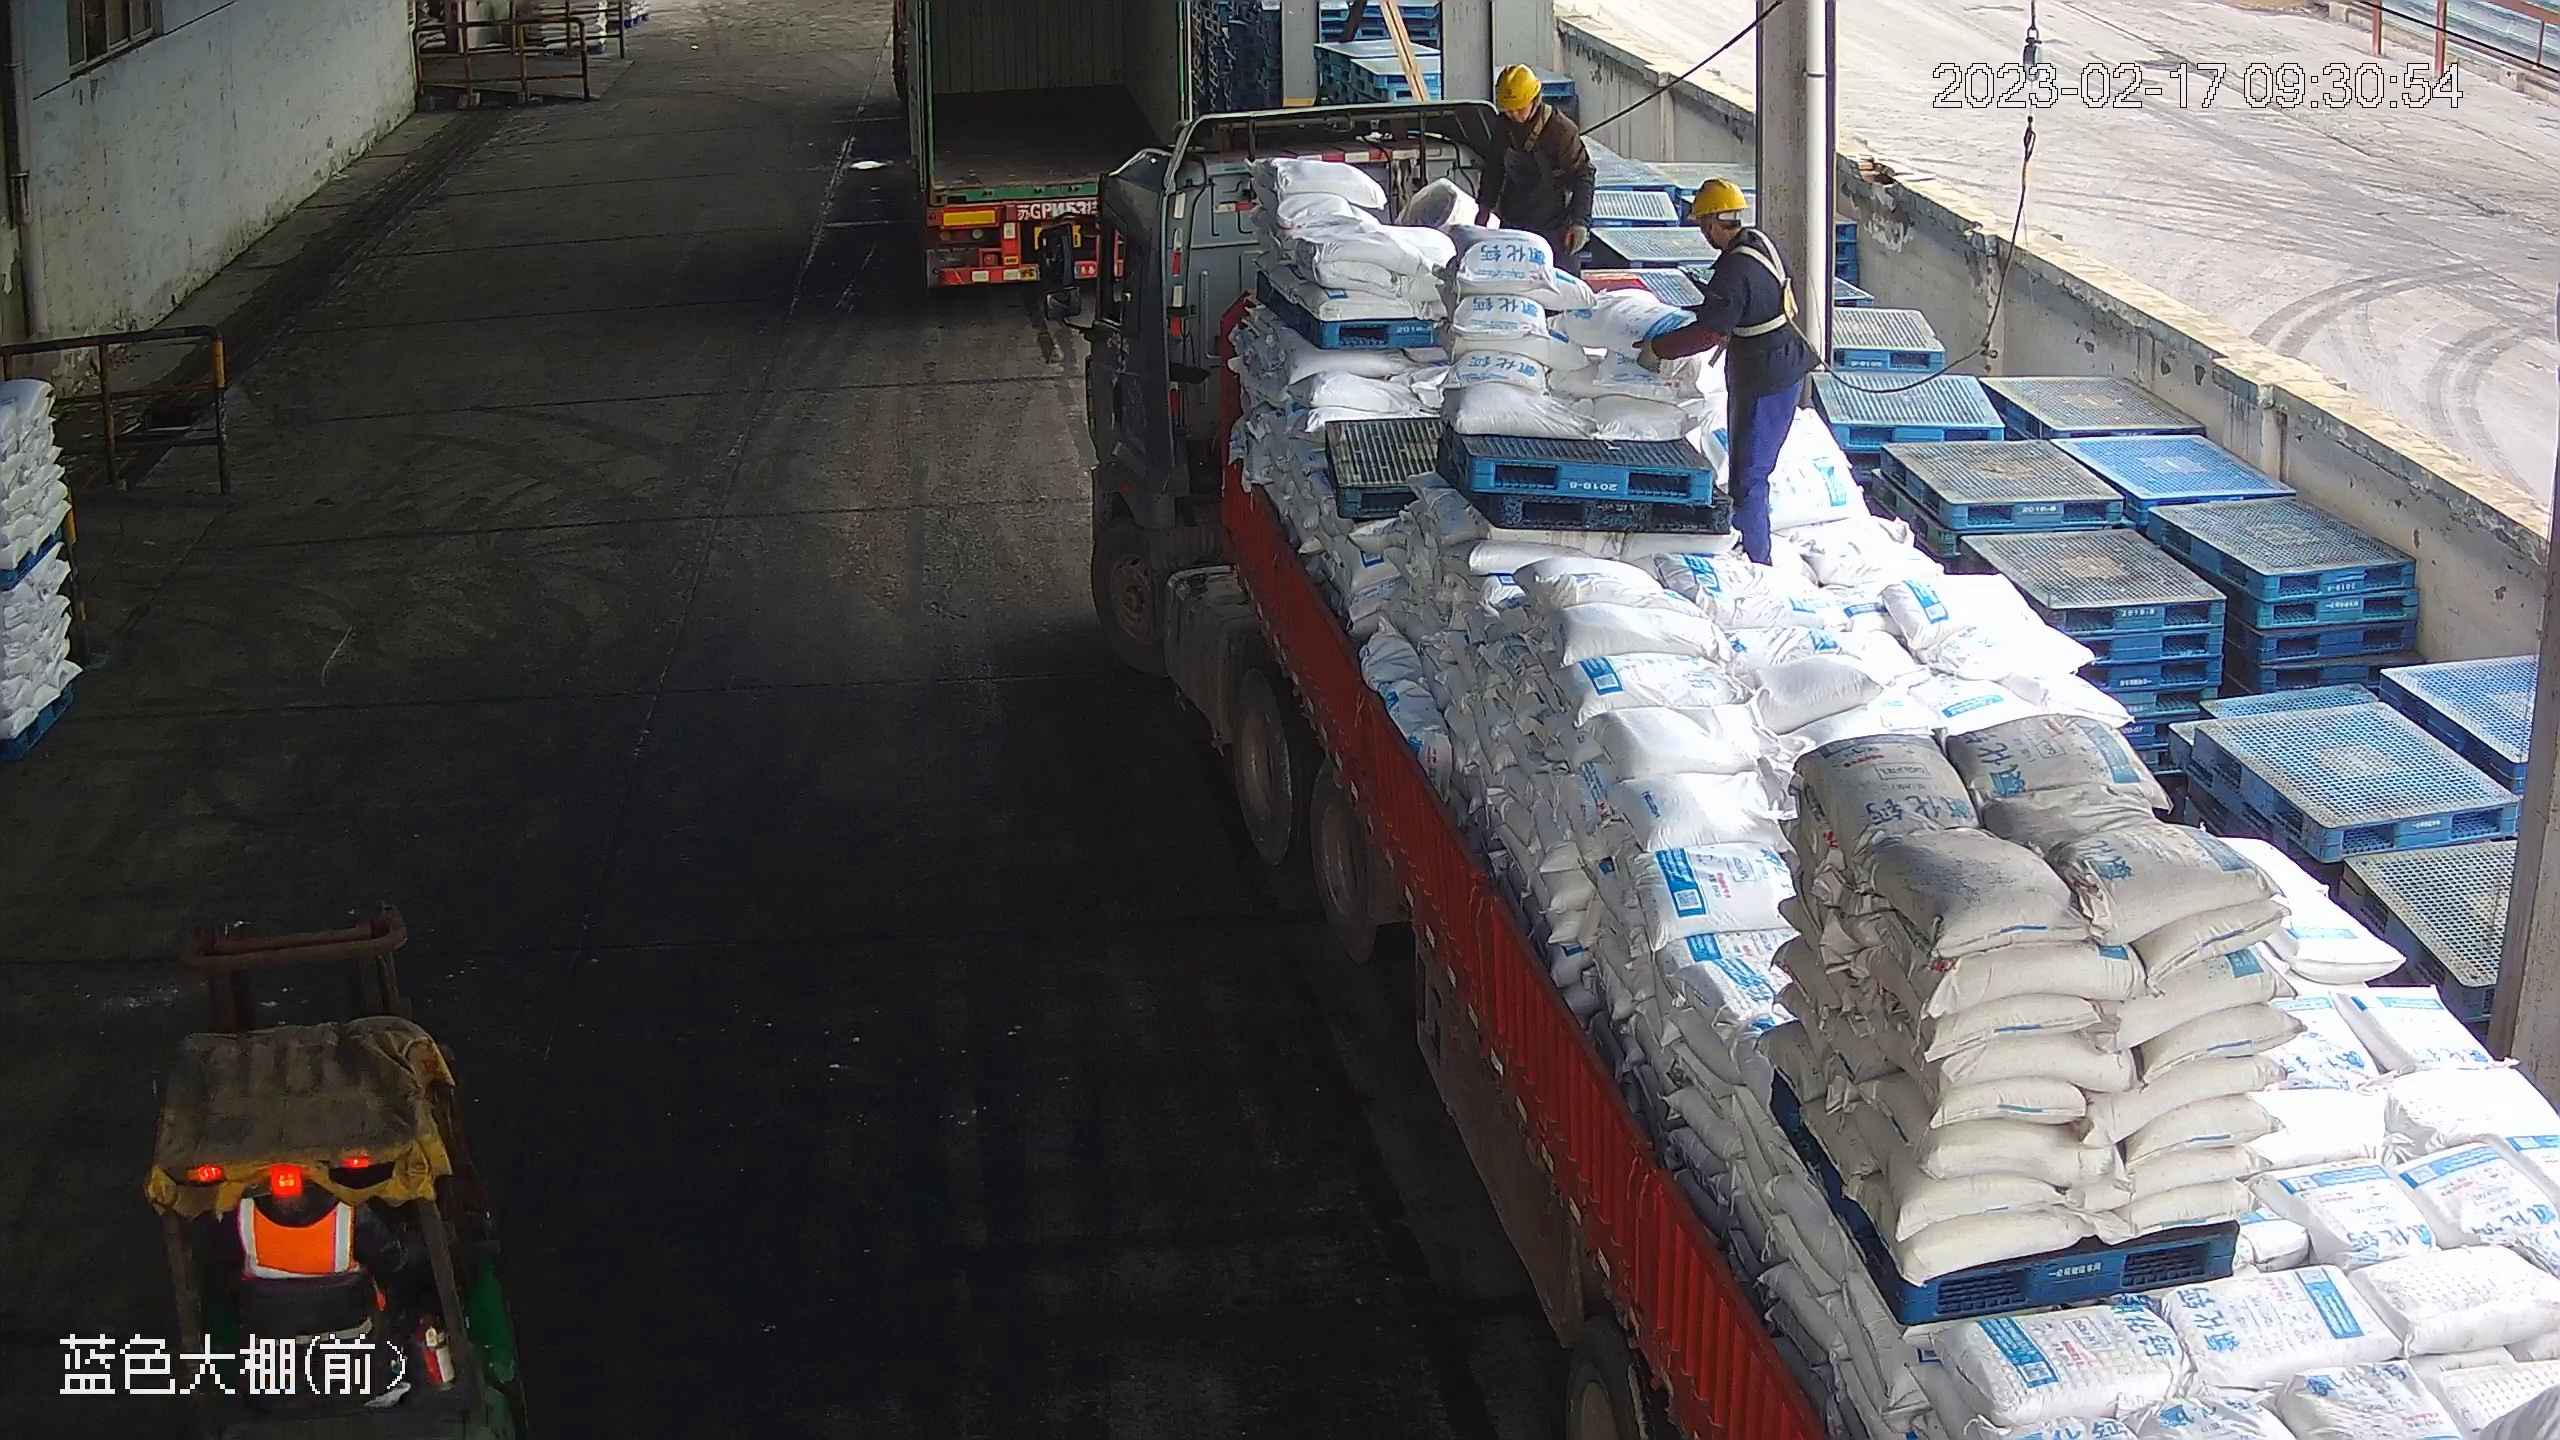belt: (1734, 225, 1810, 344), (1503, 100, 1564, 149)
head: (1669, 179, 1795, 311), (1484, 67, 1590, 181)
helmet: (1690, 178, 1754, 222), (1495, 66, 1542, 118)
people: (1632, 179, 1820, 571), (1470, 62, 1602, 291)
truck: (1022, 98, 2560, 1440), (888, 1, 1208, 320)
